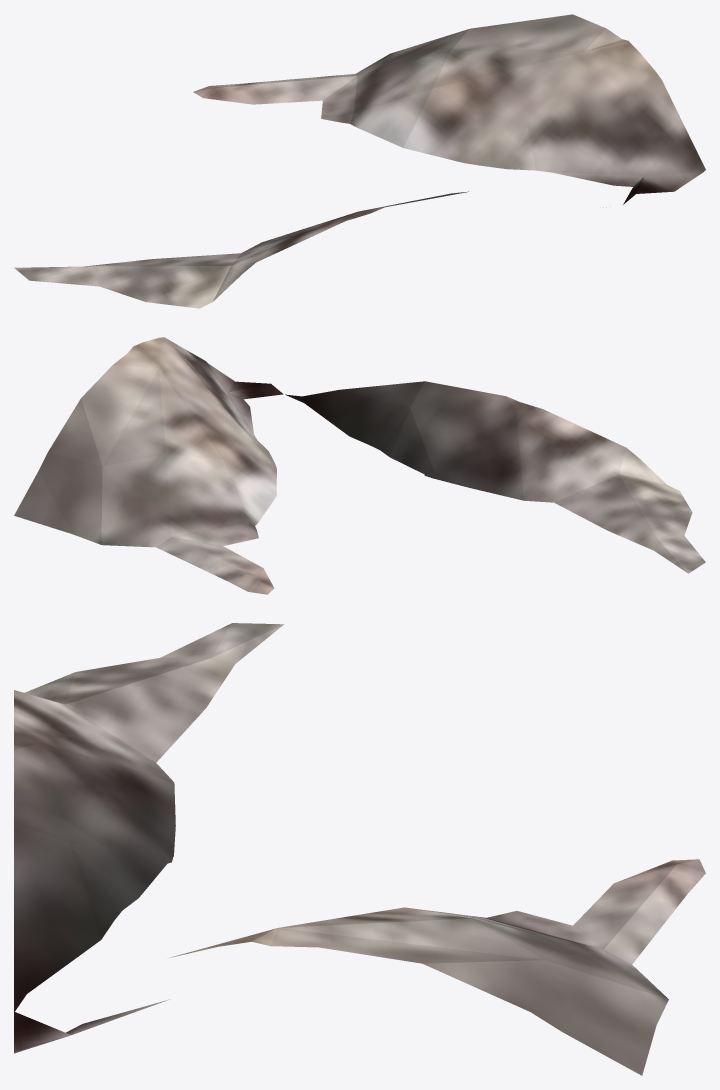
3 renders of one model, top to bottom at view 1: azimuth 30°, elevation 25°; view 2: azimuth 150°, elevation 25°; view 3: azimuth 270°, elevation 25°, orthographic. The views are drawn at different scales.
Bounding box in the file's own units: 0.3312 × 0.0458 × 0.2139.
1 material, 1 textured.
